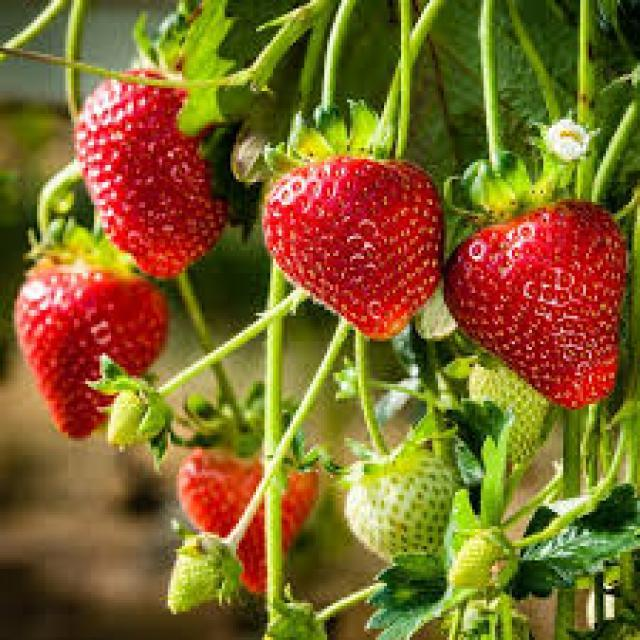Fruta sana: (460, 197, 634, 411), (62, 66, 233, 270), (20, 242, 164, 446), (277, 156, 439, 334), (180, 436, 326, 602), (340, 444, 460, 580)
